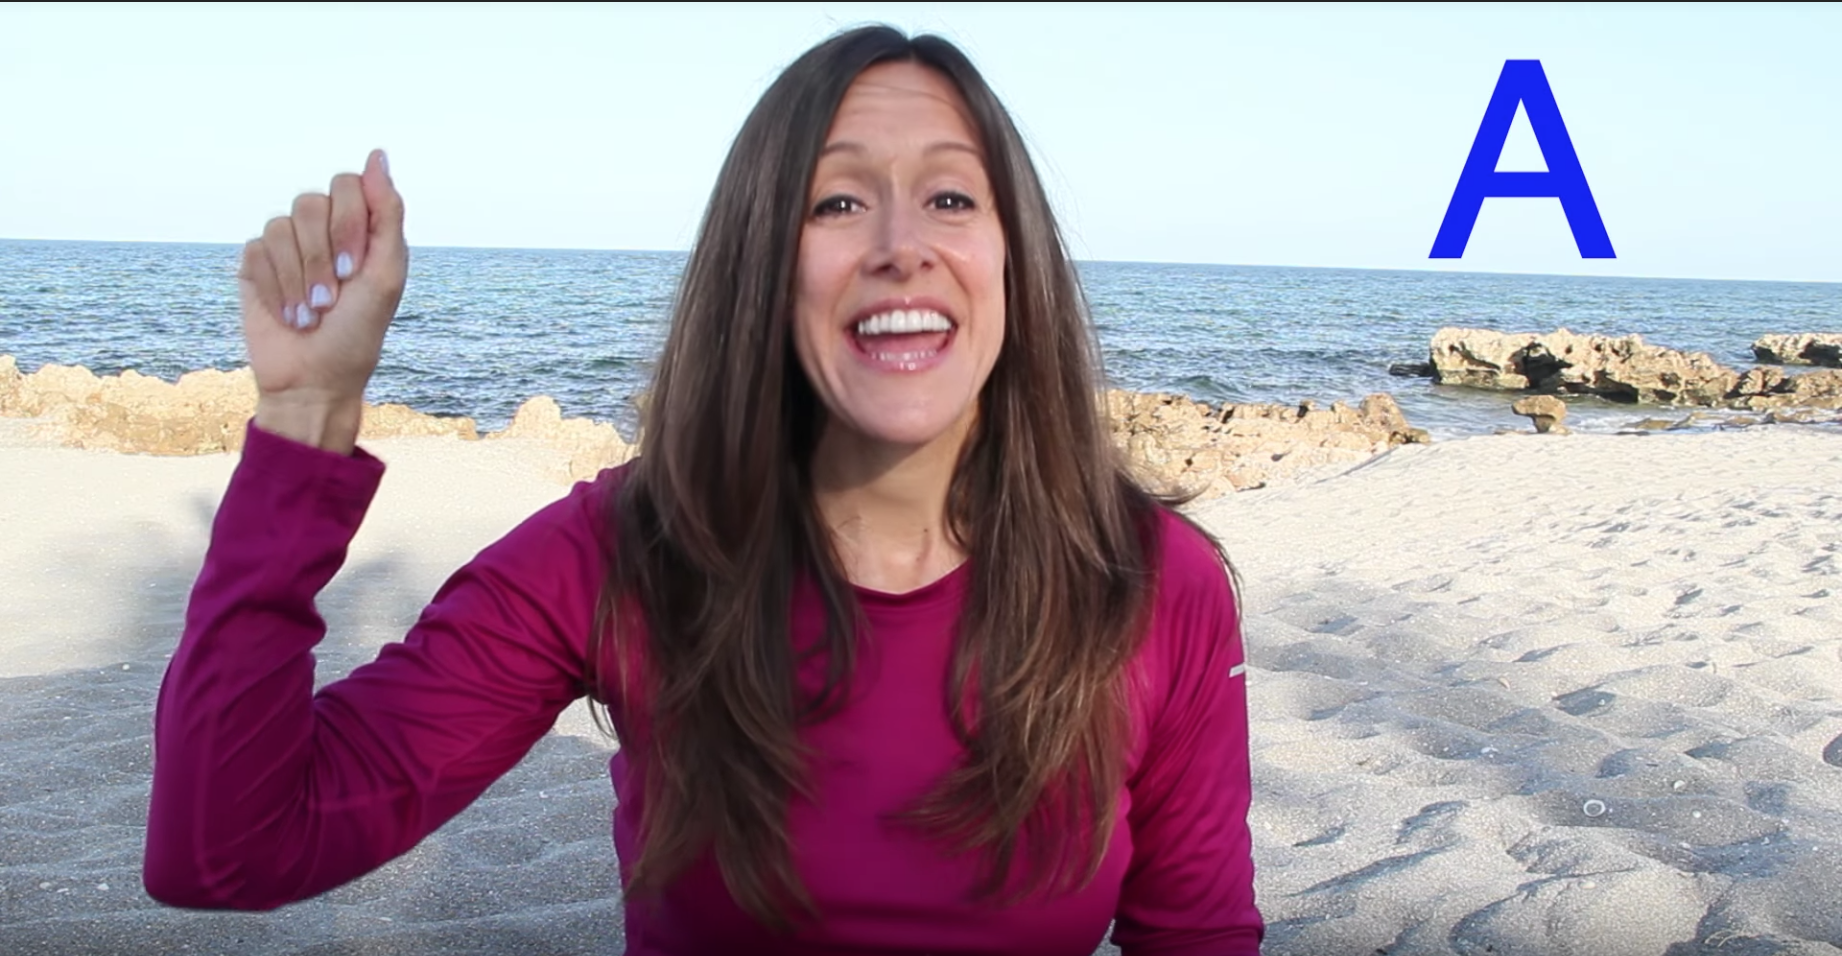a: (225, 145, 419, 424)
